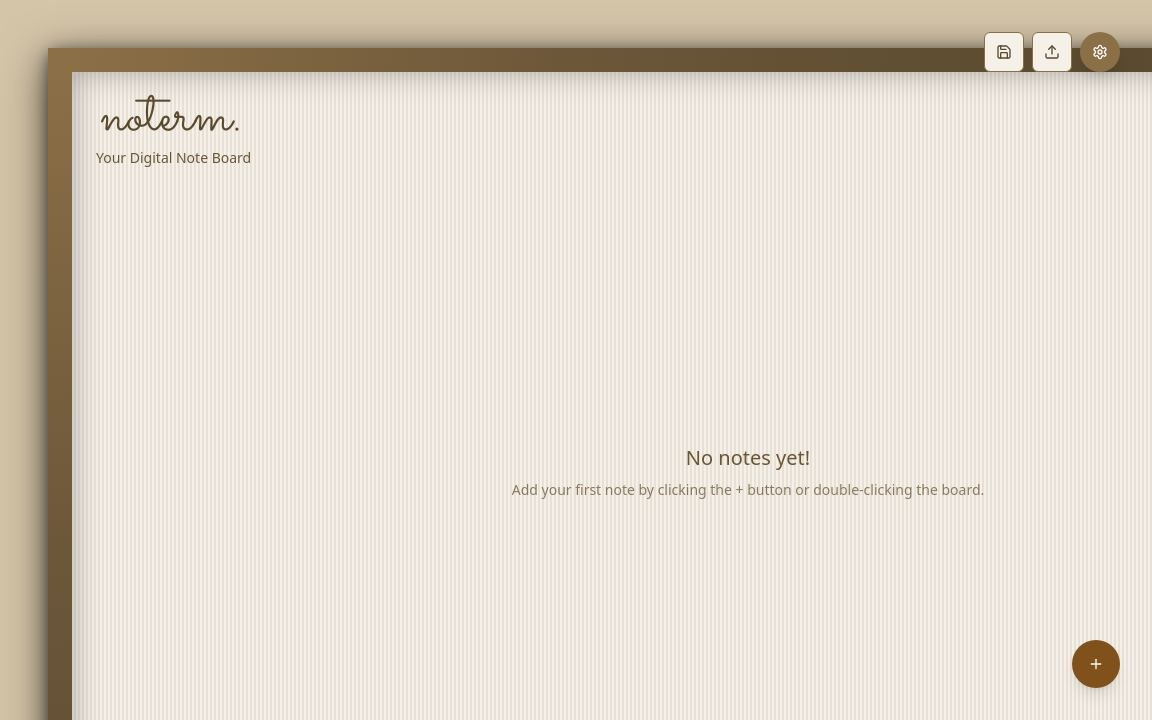
Index page › should open add note dialog when clicking plus button
Click the 4th button at (1096, 664), box [1072,640,1120,688]
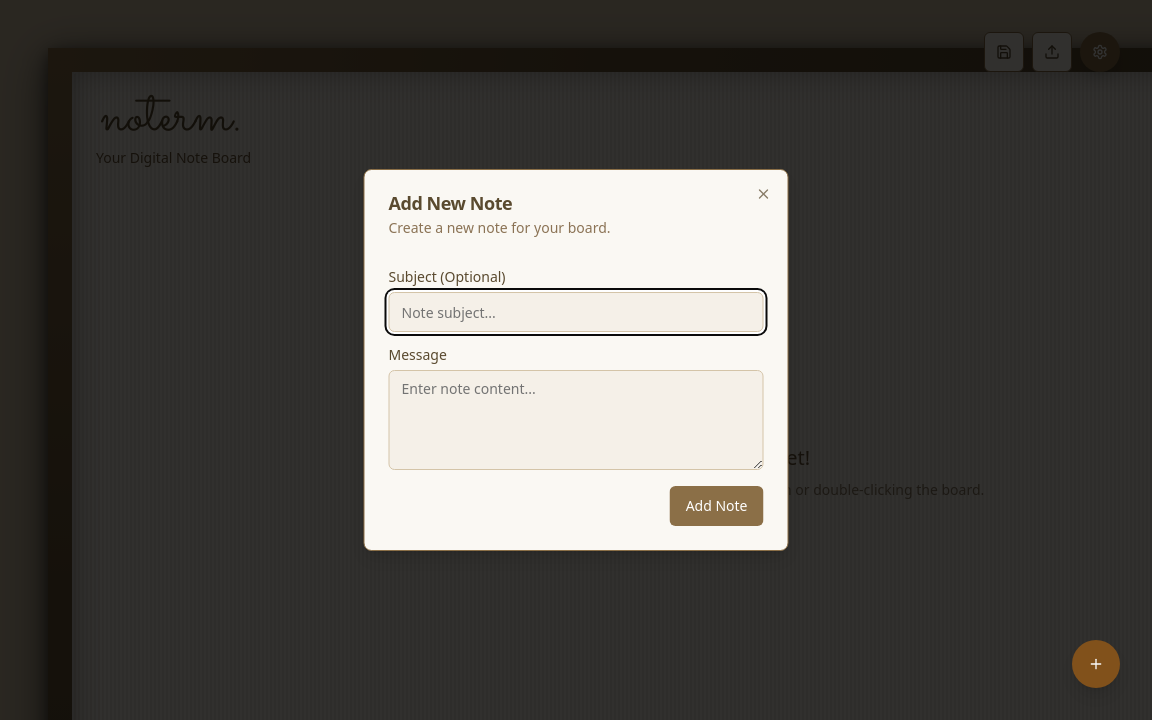
Now the heading "Add New Note" is shown, box [388,191,512,215]
